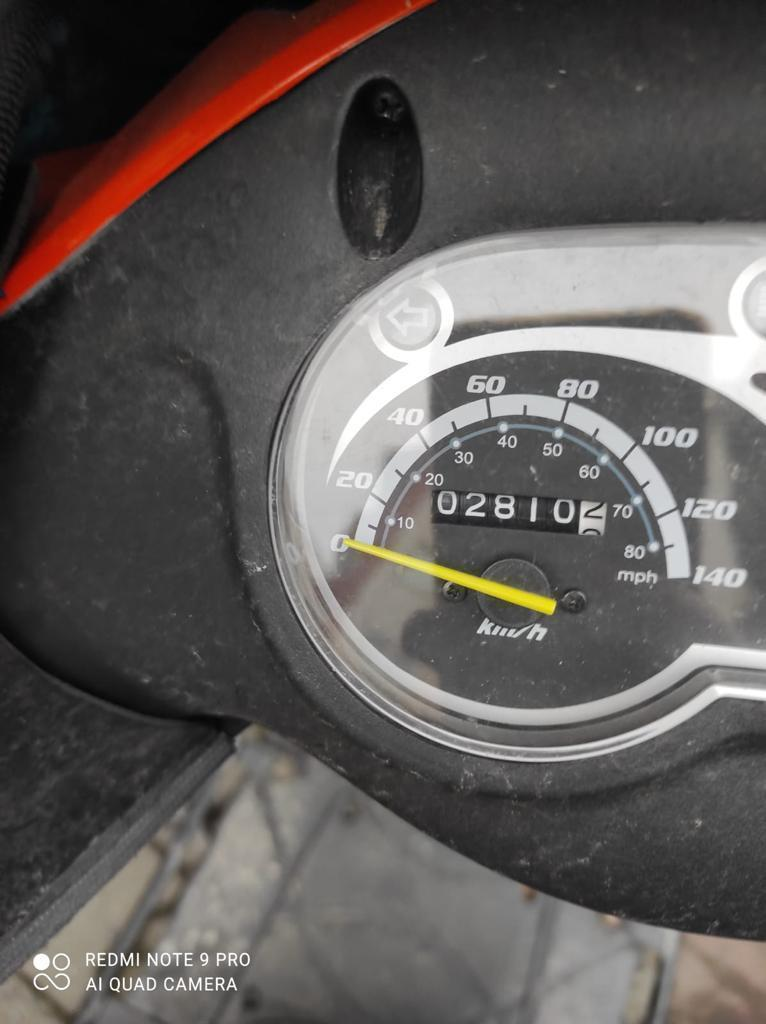0: (552, 497, 575, 524), (435, 489, 457, 516)
1: (527, 495, 540, 523)
2: (463, 490, 486, 518), (583, 499, 606, 519)
8: (492, 493, 516, 520)
odometer: (421, 485, 613, 539)
